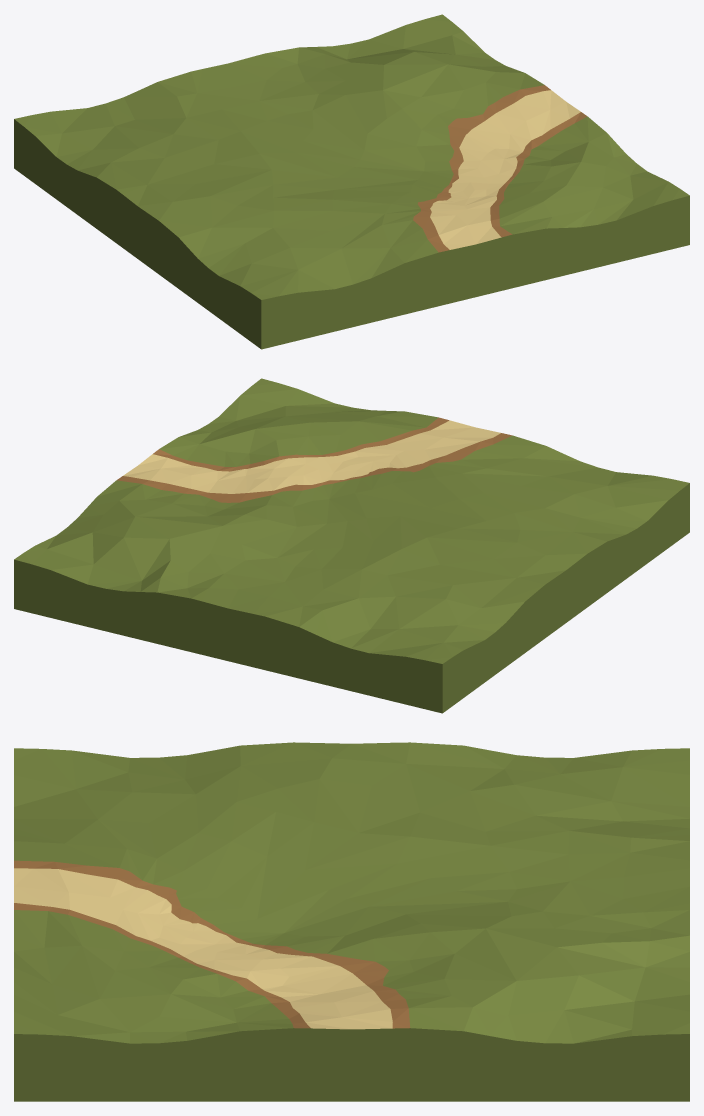
Rendered from Terrian_Road_Bend_Flat-02.fbx.
3 renders of one model, top to bottom at view 1: azimuth 30°, elevation 25°; view 2: azimuth 150°, elevation 25°; view 3: azimuth 270°, elevation 25°, orthographic. The views are drawn at different scales.
Parts seen in each view (by area): view 1: Terrian_Road_Bend_Flat-02; view 2: Terrian_Road_Bend_Flat-02; view 3: Terrian_Road_Bend_Flat-02.
Boxes of the visible parts, x1=… form: Terrian_Road_Bend_Flat-02: x1=14, y1=14, x2=689, y2=349; Terrian_Road_Bend_Flat-02: x1=14, y1=378, x2=689, y2=713; Terrian_Road_Bend_Flat-02: x1=14, y1=742, x2=689, y2=1101.
Bounding box in the file's own units: 3600 × 491 × 3600.
Materials: 1 (1 with a texture image).
